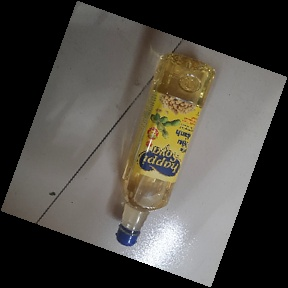Happy Soya: (115, 52, 218, 247)
